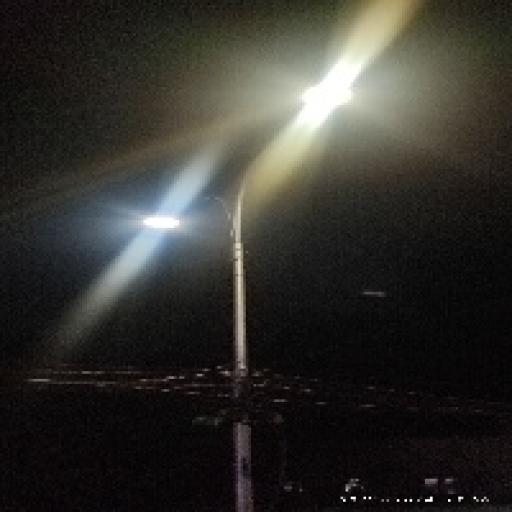Working: (294, 80, 370, 118), (135, 210, 195, 240)
